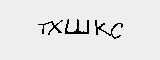К: (93, 17, 109, 38)
С: (108, 21, 125, 40)
Т: (39, 22, 50, 35)
Х: (49, 19, 66, 36)
Ш: (64, 17, 90, 37)
